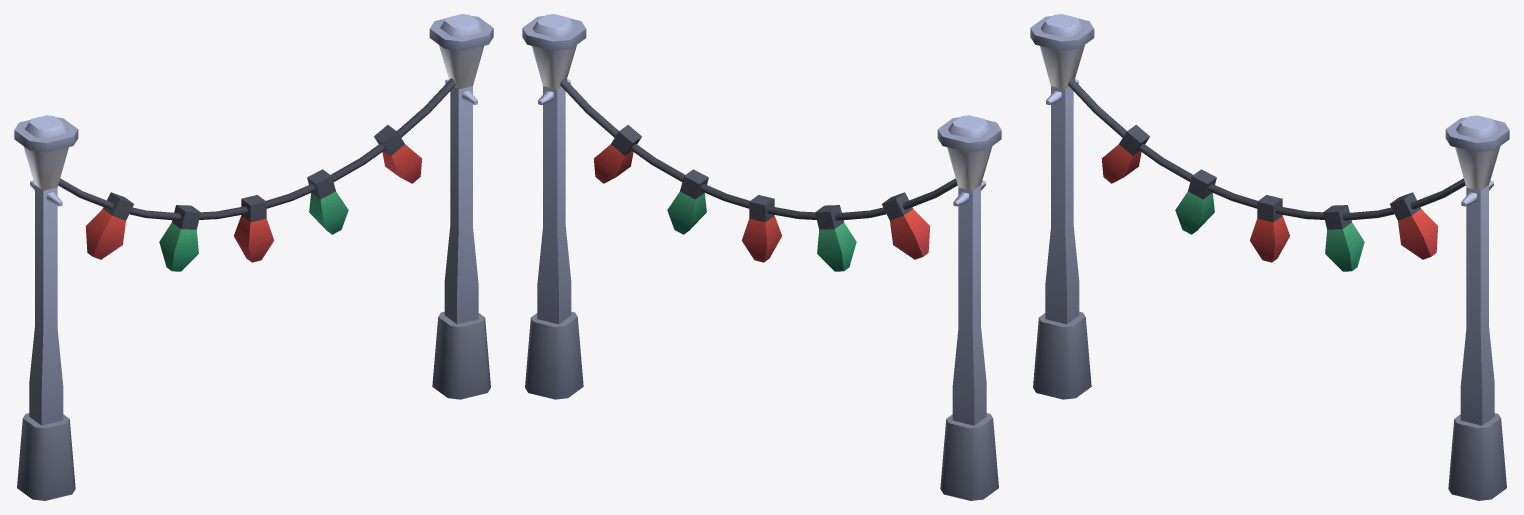
The model's file is lights.glb.
3 views of the same model, side by side, from view 1: azimuth 30°, elevation 25°; view 2: azimuth 150°, elevation 25°; view 3: azimuth 330°, elevation 25° (orthographic).
Parts seen in each view (by area): view 1: lantern (×2), lights-colored; view 2: lantern (×2), lights-colored; view 3: lantern (×2), lights-colored.
Boxes of the visible parts, box(x1,y1,x2,y2) form: lantern (×2): box(14, 14, 493, 500); lights-colored: box(58, 78, 455, 271); lantern (×2): box(522, 14, 1001, 500); lights-colored: box(560, 78, 957, 271); lantern (×2): box(1030, 14, 1509, 500); lights-colored: box(1068, 78, 1465, 271).
Bounding box in the file's own units: 2.12 × 1.6 × 0.2307.
3 materials, 3 textured.
